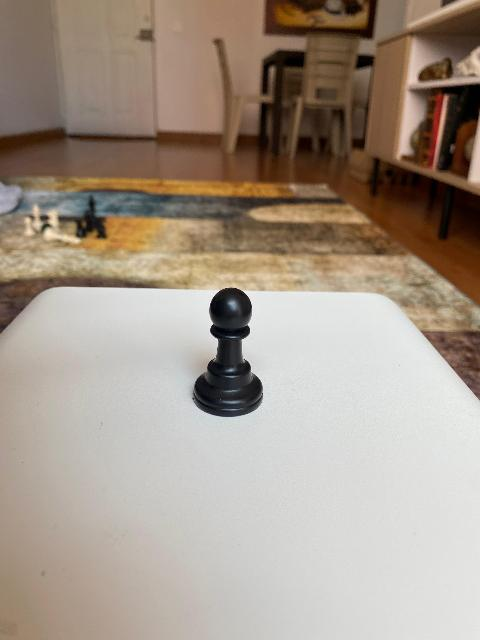black-pawn: (192, 286, 264, 416)
